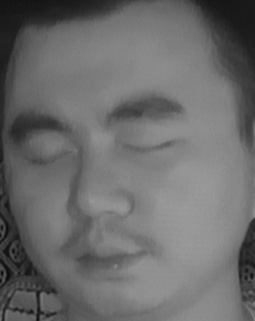blink: (119, 127, 180, 166), (22, 142, 75, 174)
mouth: (61, 229, 152, 287)
